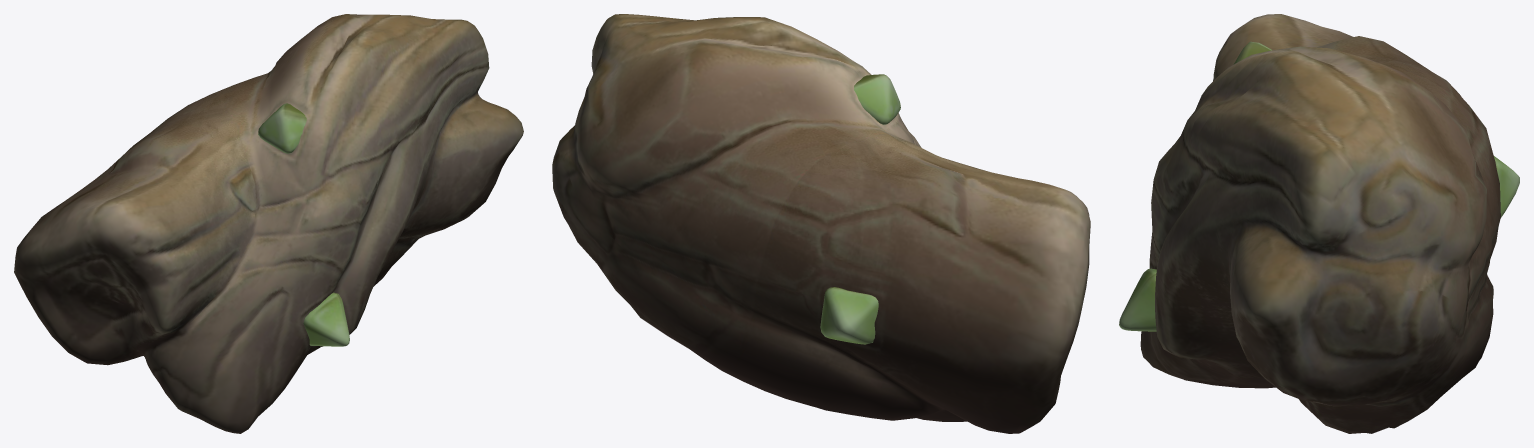
Rendered from TreeOre_low.glb.
3 renders of one model, left to right at view 1: azimuth 30°, elevation 25°; view 2: azimuth 150°, elevation 25°; view 3: azimuth 270°, elevation 25°, orthographic. The views are drawn at different scales.
Parts seen in each view (by area): view 1: TreeOre_low; view 2: TreeOre_low; view 3: TreeOre_low.
Part boxes in pixels (left/top/right/bottom): TreeOre_low: left=14, top=14, right=523, bottom=433; TreeOre_low: left=552, top=14, right=1090, bottom=433; TreeOre_low: left=1119, top=14, right=1519, bottom=433.
Size of the model in its own units: 0.3745 by 0.2506 by 0.2091.
Materials: 1 (1 with a texture image).
